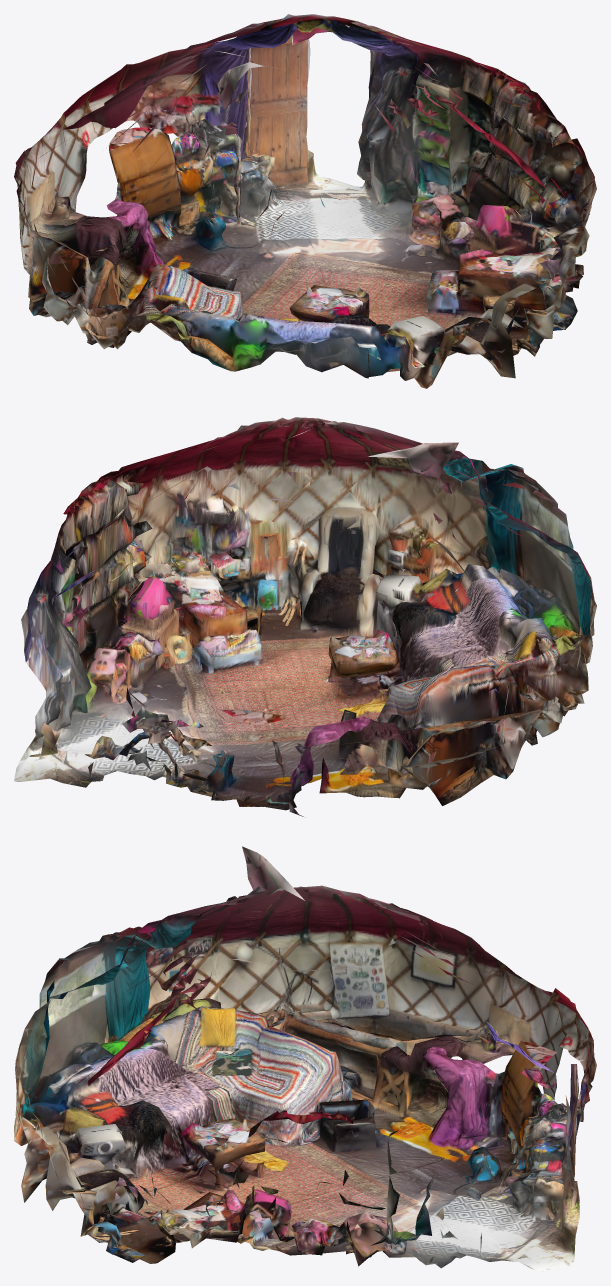
File: Yurt.glb
The picture shows the model from 3 angles, top to bottom: view 1: azimuth 30°, elevation 25°; view 2: azimuth 150°, elevation 25°; view 3: azimuth 270°, elevation 25°; orthographic projection.
Parts seen in each view (by area): view 1: NewYurt; view 2: NewYurt; view 3: NewYurt.
Part boxes in pixels (x1,y1,x2,y2): NewYurt: (14,14,596,388); NewYurt: (14,417,596,816); NewYurt: (14,846,596,1271).
Size of the model in its own units: 5.28 by 2.89 by 5.36.
Materials: 1 (1 with a texture image).
